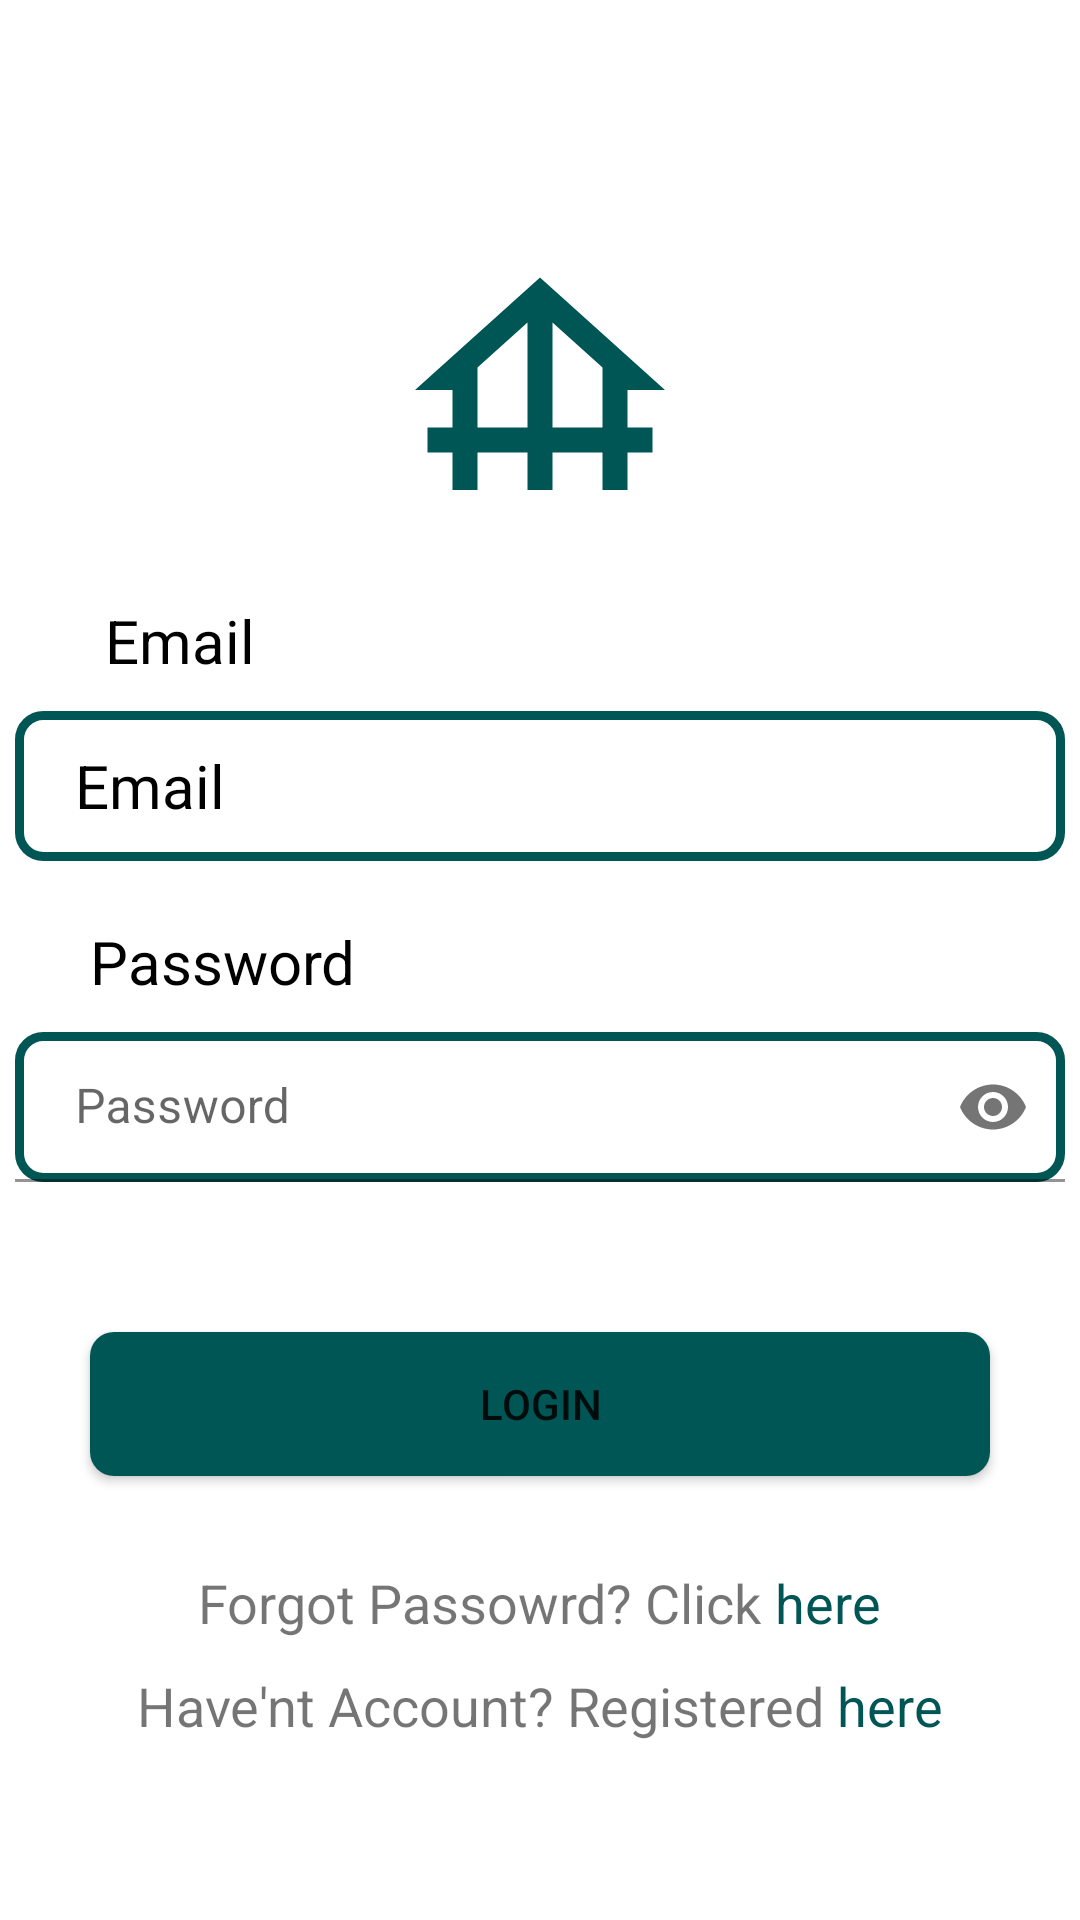

Screen size 1080 × 1920. Icon name, then its box in pixels as (x1, y1, x2, y2):
foundation: (415, 277, 665, 490)
